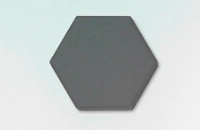white: (50, 16, 159, 110)
